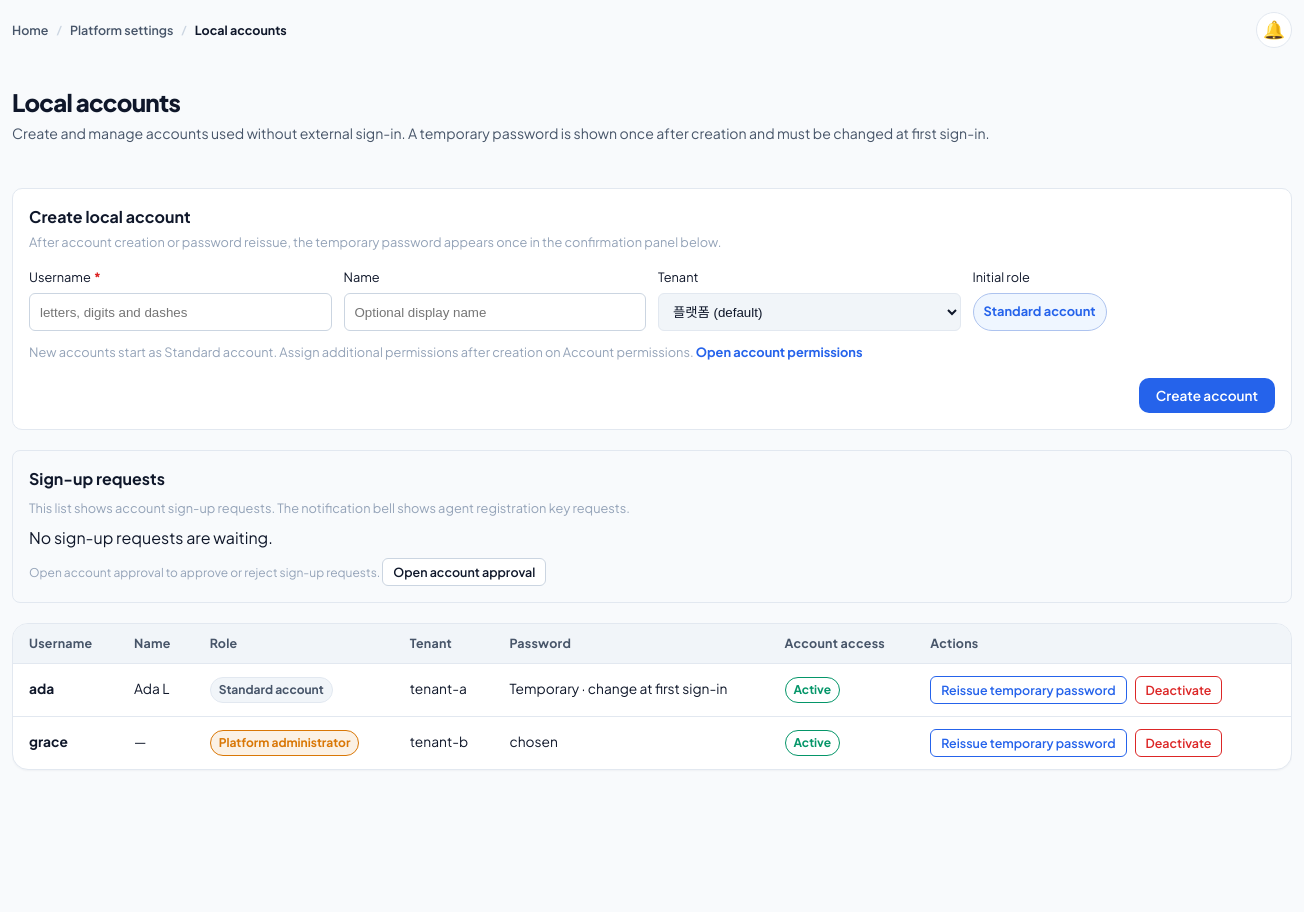
Test: password reissue from the account list › cancels without changing the password
Click the button with test id "reissue-ada" at (1028, 690), box [930,676,1126,704]
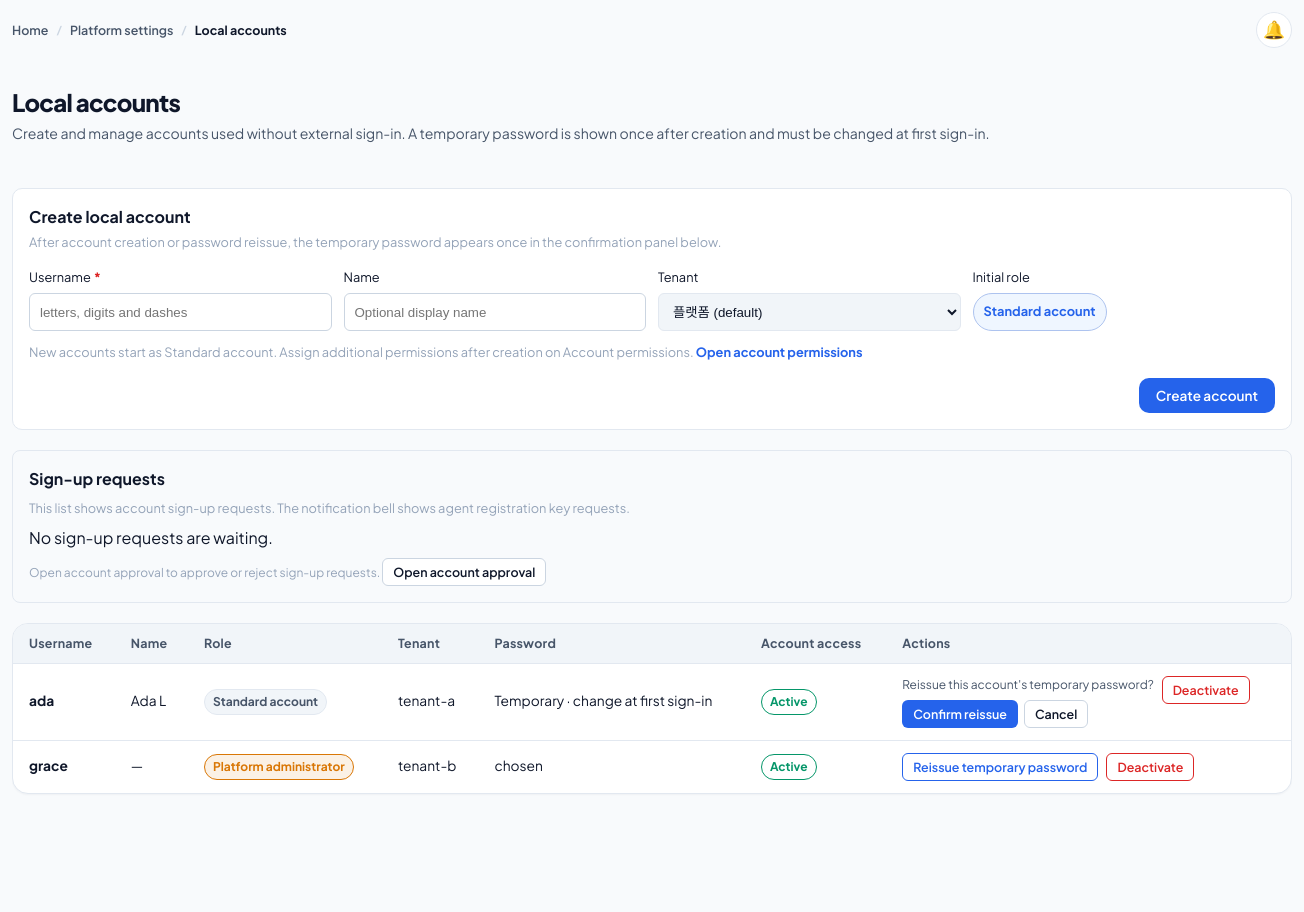
Expected: the element with test id "reissue-confirm-ada" shows "Reissue this account's temporary password?", [902,676,1154,692]
Click the button with test id "reissue-cancel-ada" at (1056, 714), box [1024,700,1088,728]
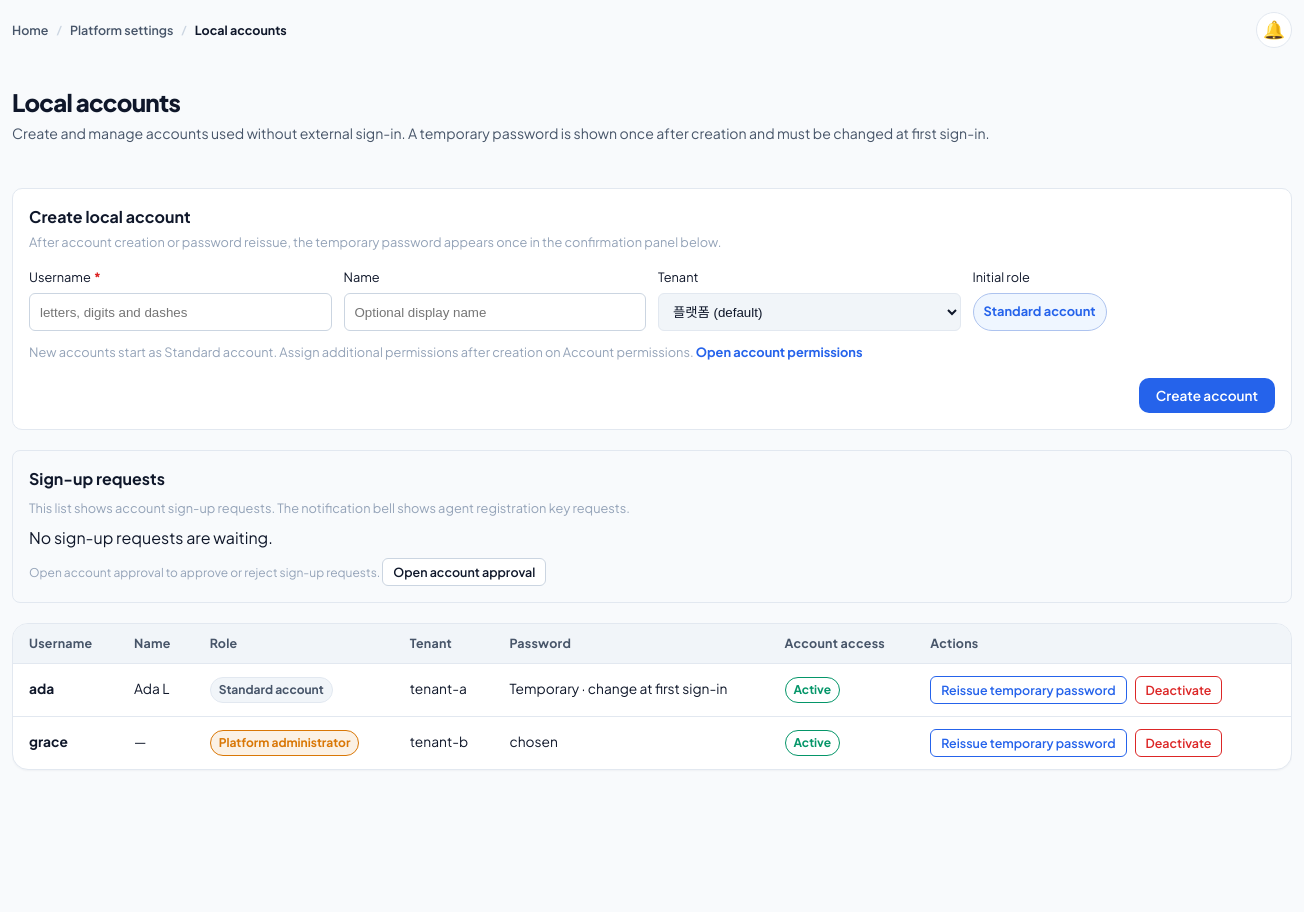
Expected: the element with test id "reissue-confirm-ada" is gone
